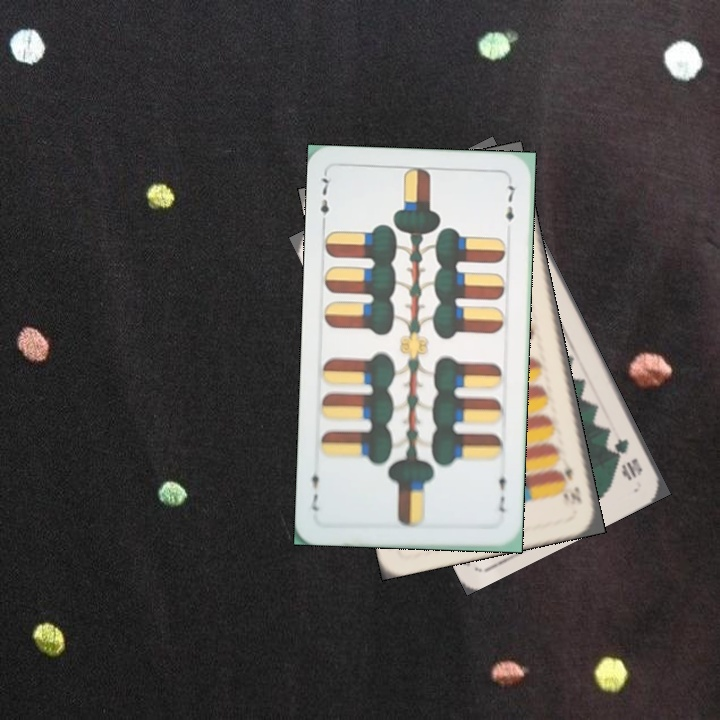E10: (556, 453, 584, 506)
E7: (316, 170, 332, 229), (495, 466, 510, 515)
G10: (610, 434, 645, 483)
